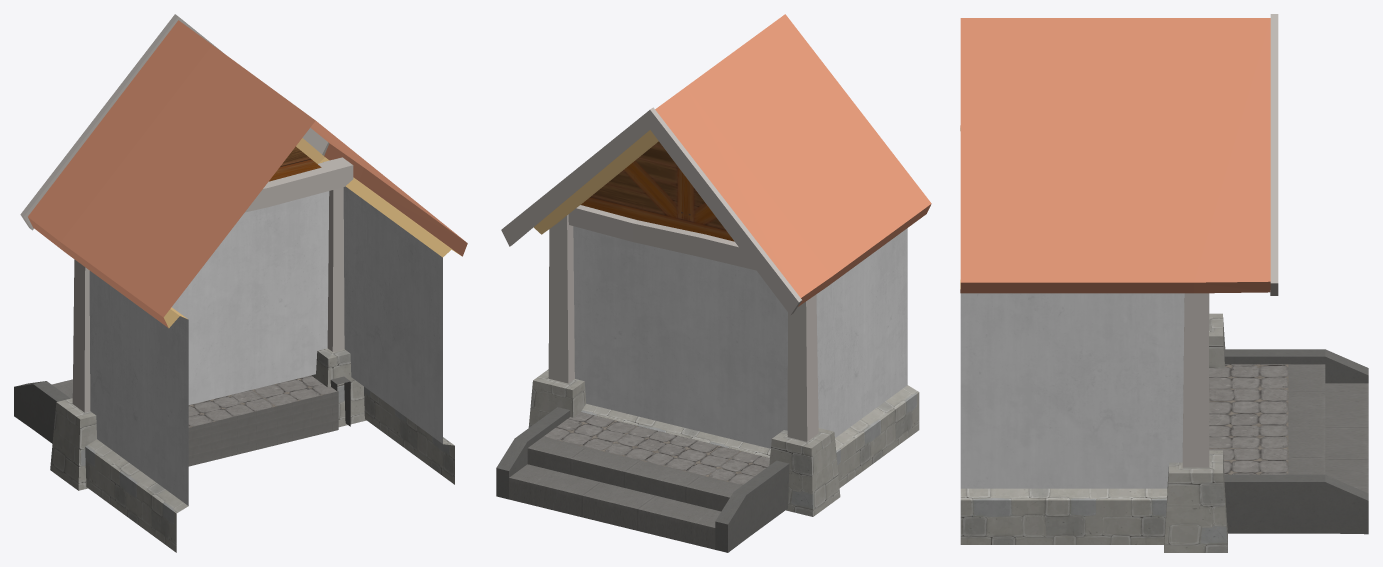
The model's file is BuildingDoor_A_01.fbx.
The picture shows the model from 3 angles, left to right: view 1: azimuth 30°, elevation 25°; view 2: azimuth 150°, elevation 25°; view 3: azimuth 270°, elevation 25°; orthographic projection. The views are drawn at different scales.
Visible parts, largest first — view 1: BuildingDoor_A_01; view 2: BuildingDoor_A_01; view 3: BuildingDoor_A_01.
Boxes of the visible parts, x1=… form: BuildingDoor_A_01: x1=14, y1=14, x2=467, y2=552; BuildingDoor_A_01: x1=496, y1=14, x2=931, y2=552; BuildingDoor_A_01: x1=960, y1=14, x2=1368, y2=552.
Bounding box in the file's own units: 559 × 697 × 565.
